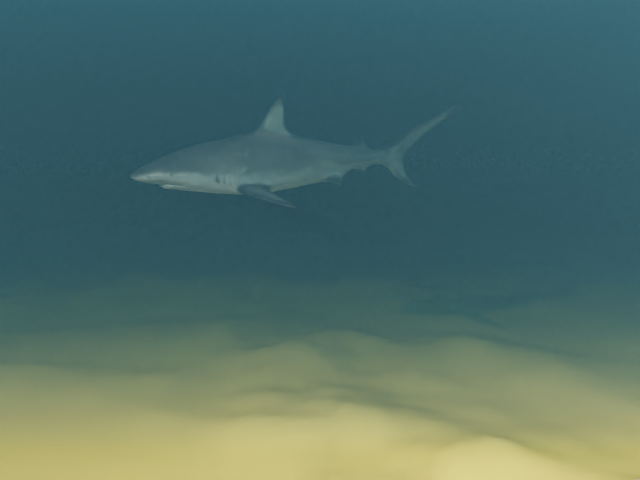Carribean Shark.001: (130, 96, 460, 207)
